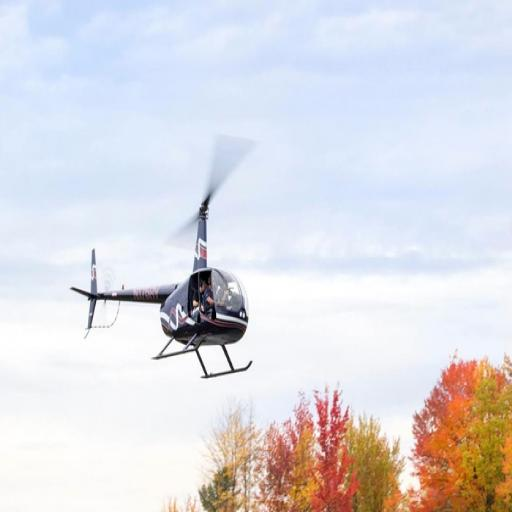helicopter: (62, 124, 272, 386)
